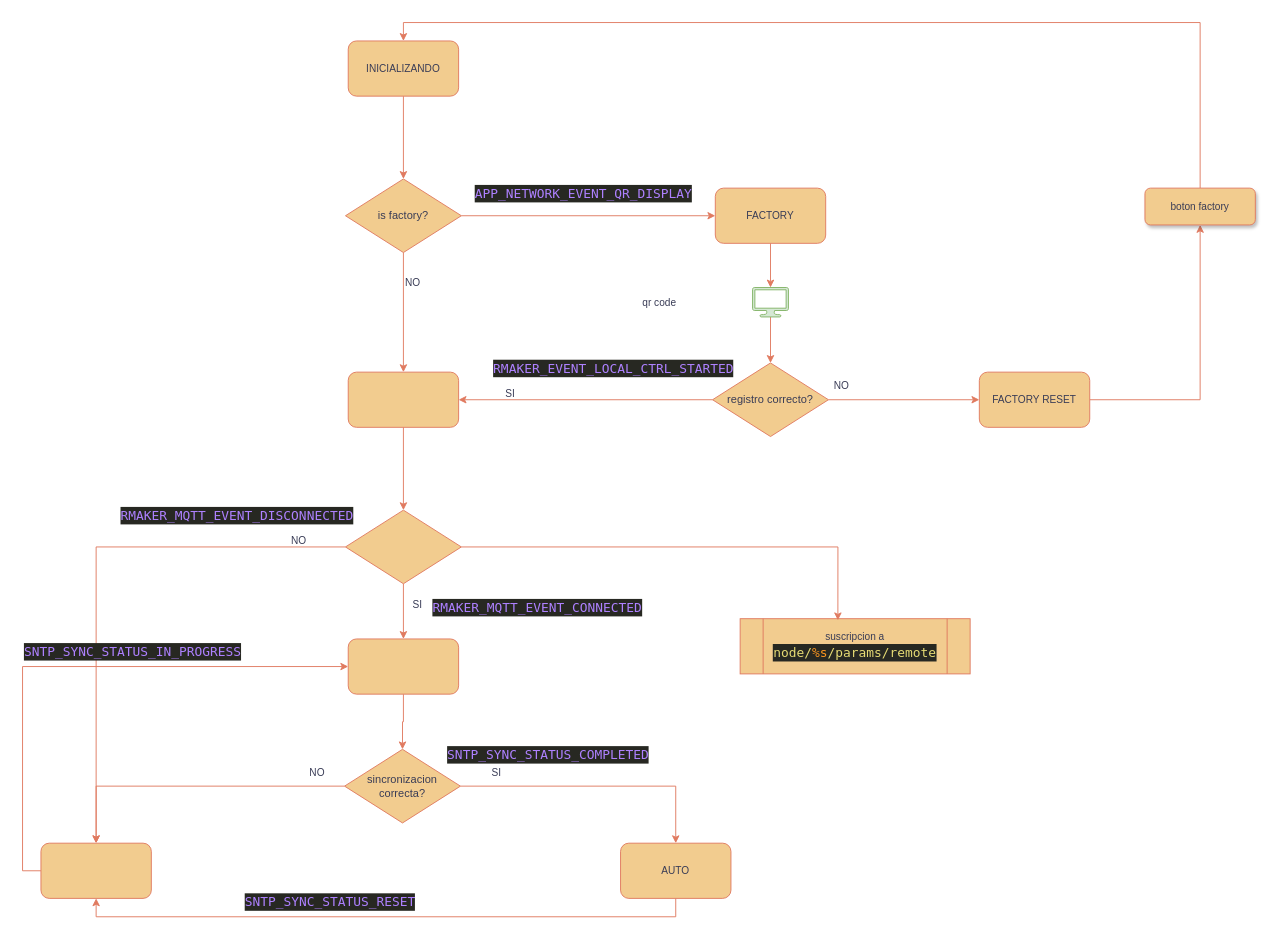
Image size: 1277x940. Some labels were removed from this diagram. Each missing label, with the centre of its shape:
"CONECTANDO" goes at point 403,399.
"conexion correcta?" goes at point 403,546.
"MANUAL" goes at point 95,870.
"SINCRONIZANDO" goes at point 403,666.
